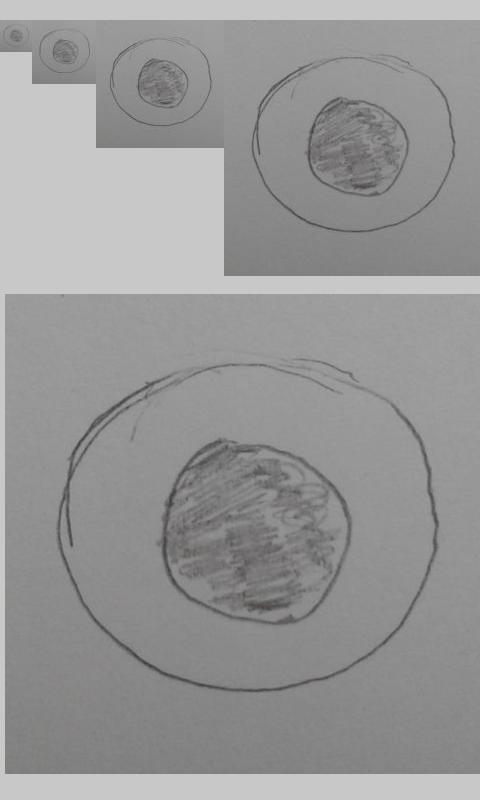radio_button: (54, 355, 442, 698), (250, 51, 456, 234), (108, 35, 214, 128), (38, 28, 91, 75), (2, 23, 30, 48)
